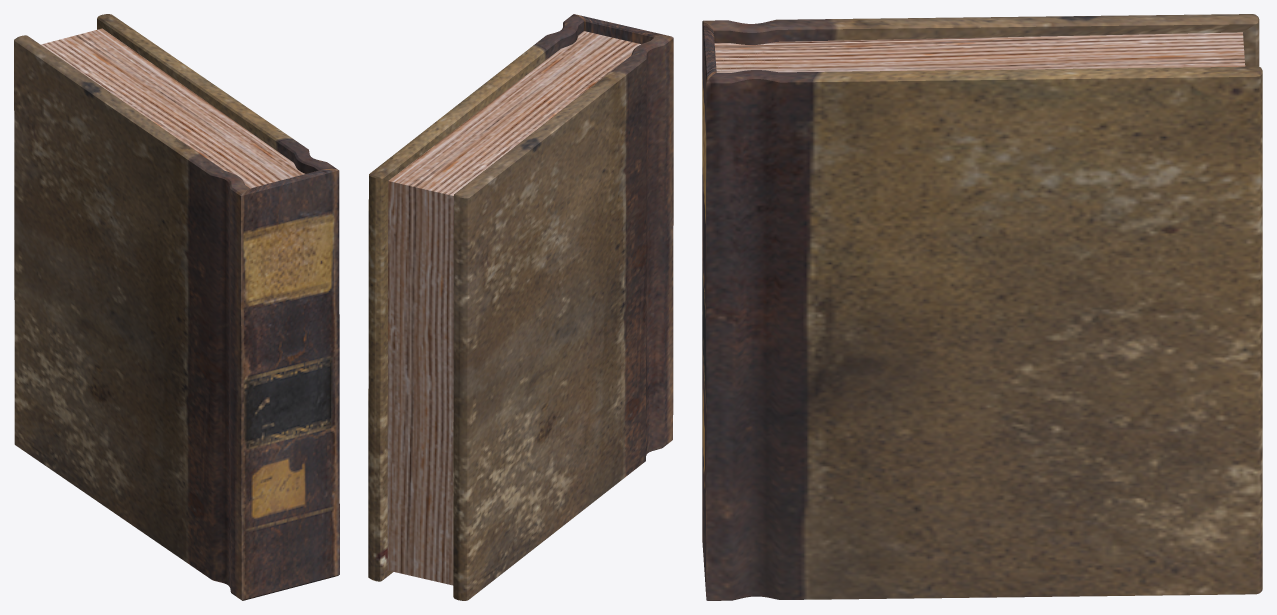
Rendered from Book2.fbx.
3 views of the same model, side by side, from view 1: azimuth 30°, elevation 25°; view 2: azimuth 150°, elevation 25°; view 3: azimuth 270°, elevation 25° (orthographic). The views are drawn at different scales.
Visible parts, largest first — view 1: Book2; view 2: Book2; view 3: Book2.
Part boxes in pixels (bbox=[...]): Book2: bbox=[14, 14, 339, 600]; Book2: bbox=[368, 14, 673, 600]; Book2: bbox=[702, 14, 1262, 600].
Bounding box in the file's own units: 0.0712 × 0.2495 × 0.243.
1 material, 1 textured.
